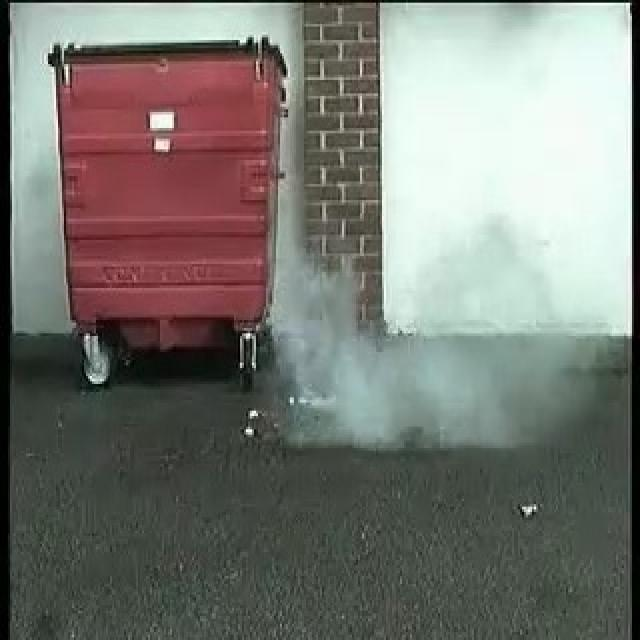smoke: (274, 261, 452, 447)
